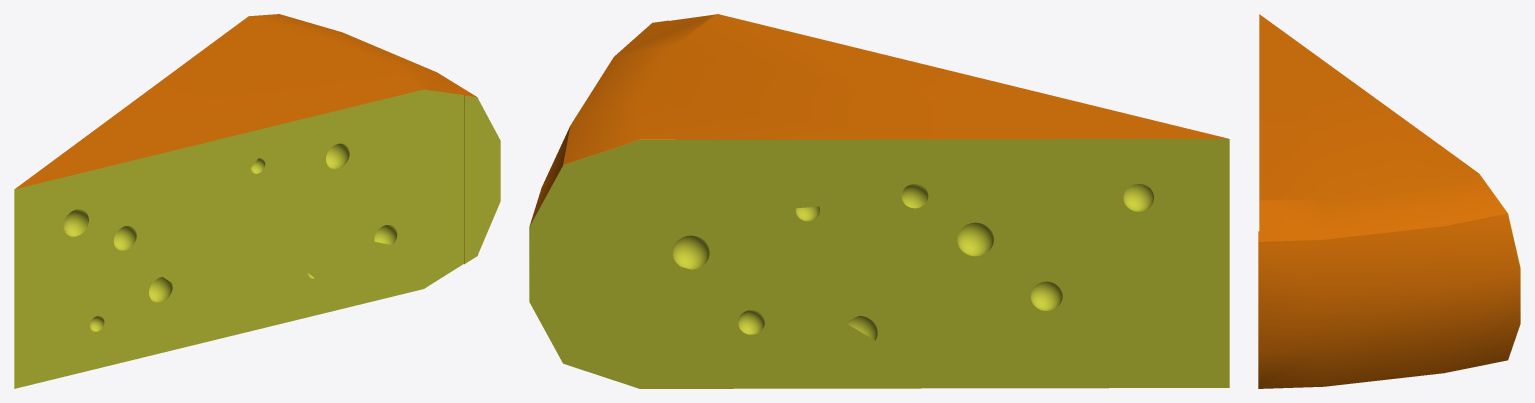
File: Käsestück.fbx
3 views of the same model, side by side, from view 1: azimuth 30°, elevation 25°; view 2: azimuth 150°, elevation 25°; view 3: azimuth 270°, elevation 25° (orthographic). The views are drawn at different scales.
Parts seen in each view (by area): view 1: pCylinder23; view 2: pCylinder23; view 3: pCylinder23.
Boxes of the visible parts, x1,y1,x2,y2 form: pCylinder23: (14,14,500,388); pCylinder23: (529,14,1229,388); pCylinder23: (1258,14,1520,388).
Size of the model in its own units: 0.9593 by 0.3763 by 0.4844.
